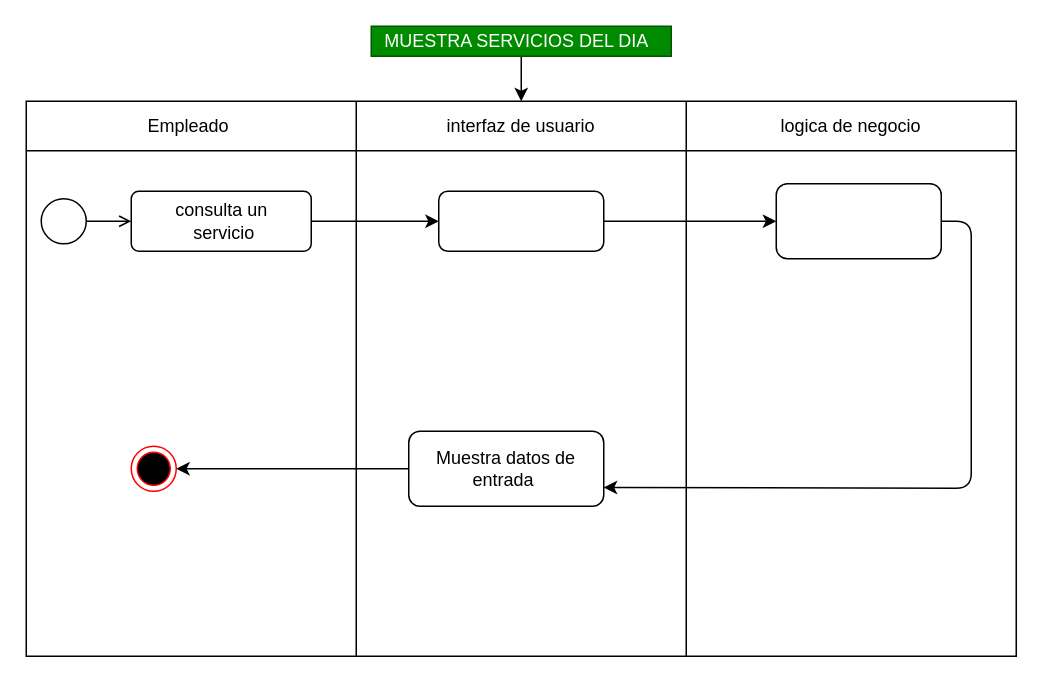
Some shapes in this 1043 by 683 pixel diagram are drawn without their labels. Here are the shapes that lost their labels. From the top down, the box of each, then its label:
(437, 190, 604, 251): Autenticacion Servicio
(775, 182, 941, 259): Consulta datos de entrada almacenados
